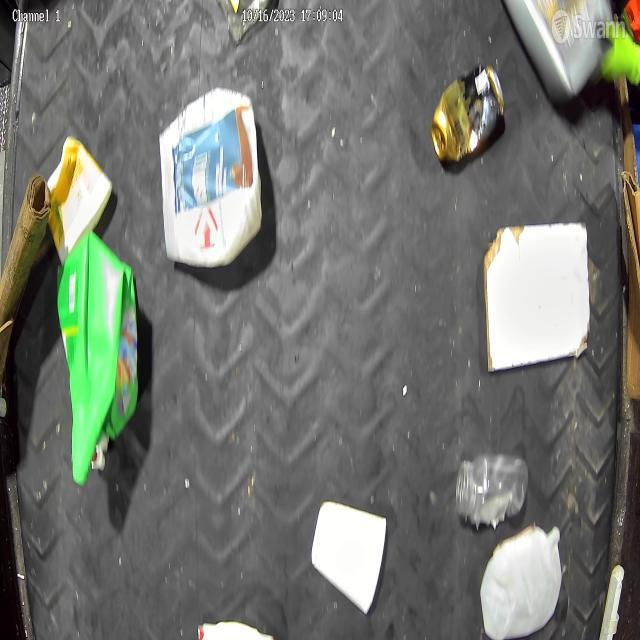can: (432, 70, 503, 160)
milk_jug: (484, 518, 574, 634)
non_white_jug: (59, 228, 138, 490)
plastic_bottle: (454, 450, 532, 512)
